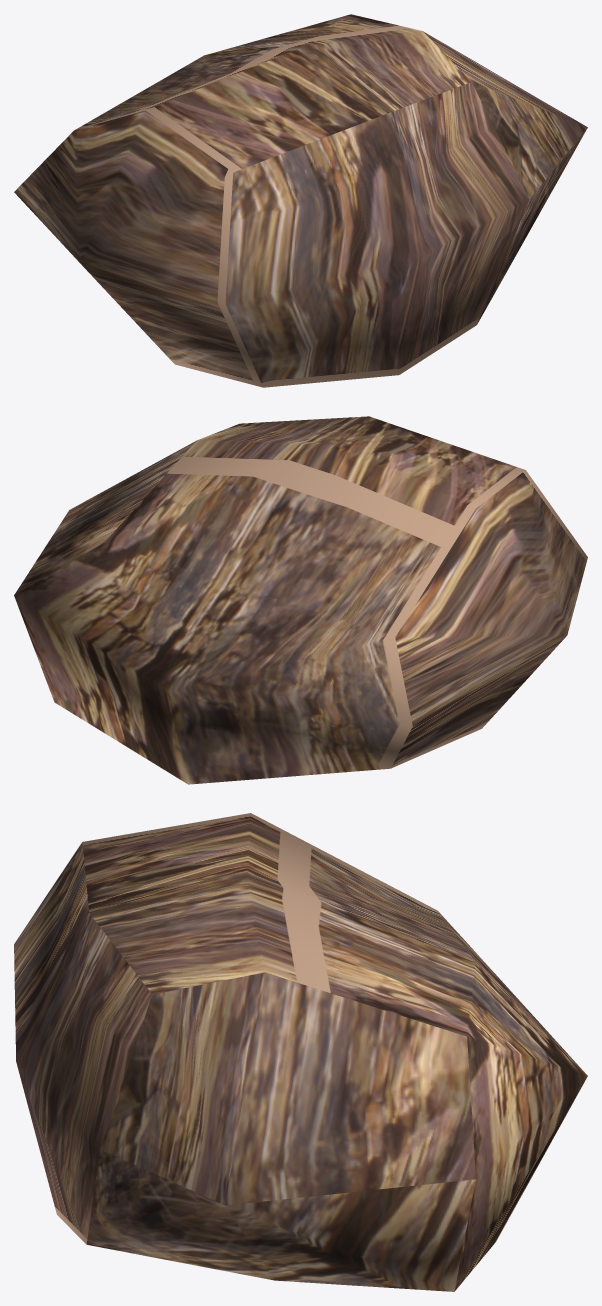
File: medium_rock.fbx
3 renders of one model, top to bottom at view 1: azimuth 30°, elevation 25°; view 2: azimuth 150°, elevation 25°; view 3: azimuth 270°, elevation 25°, orthographic. The views are drawn at different scales.
Parts seen in each view (by area): view 1: cube1; view 2: cube1; view 3: cube1.
Part boxes in pixels (left/top/right/bottom): cube1: left=14, top=14, right=587, bottom=387; cube1: left=14, top=416, right=587, bottom=784; cube1: left=14, top=813, right=587, bottom=1291.
Bounding box in the file's own units: 436 × 242 × 351.
